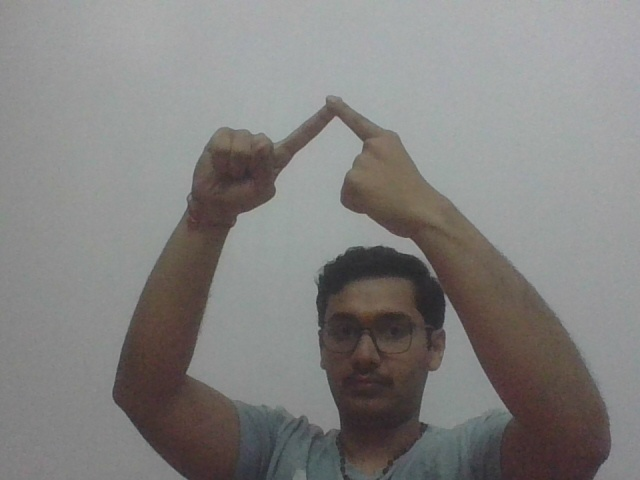E: (190, 93, 451, 234)
